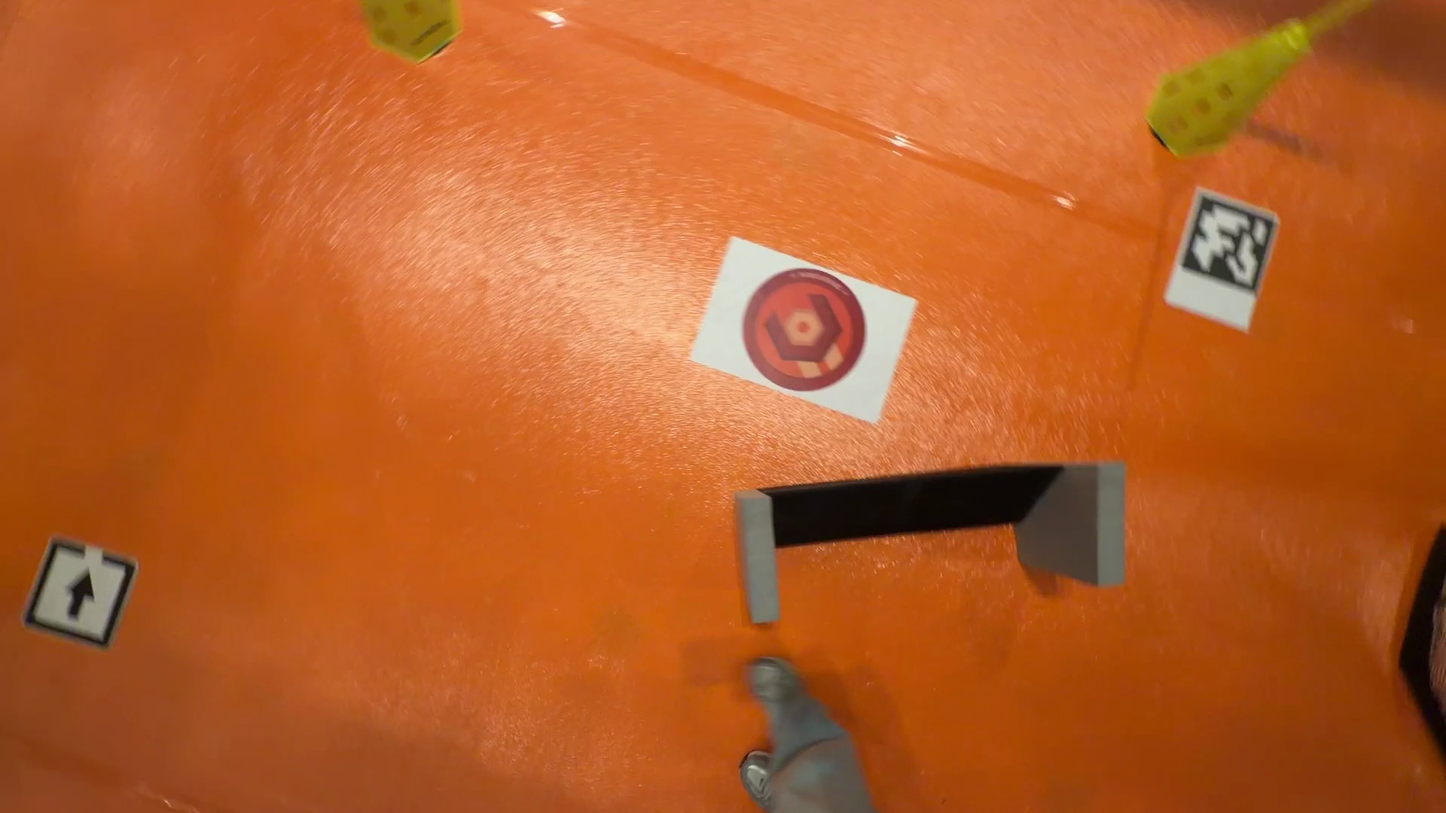landing_pad: (739, 269, 869, 394)
